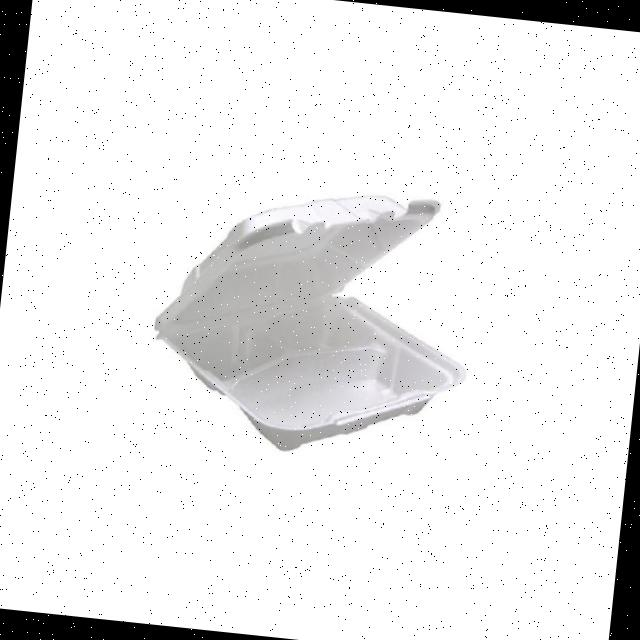styrofoam: (140, 167, 484, 469)
